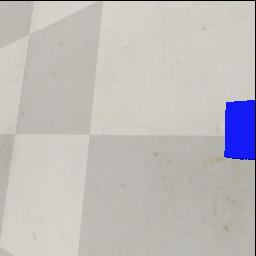box: (221, 100, 256, 160)
